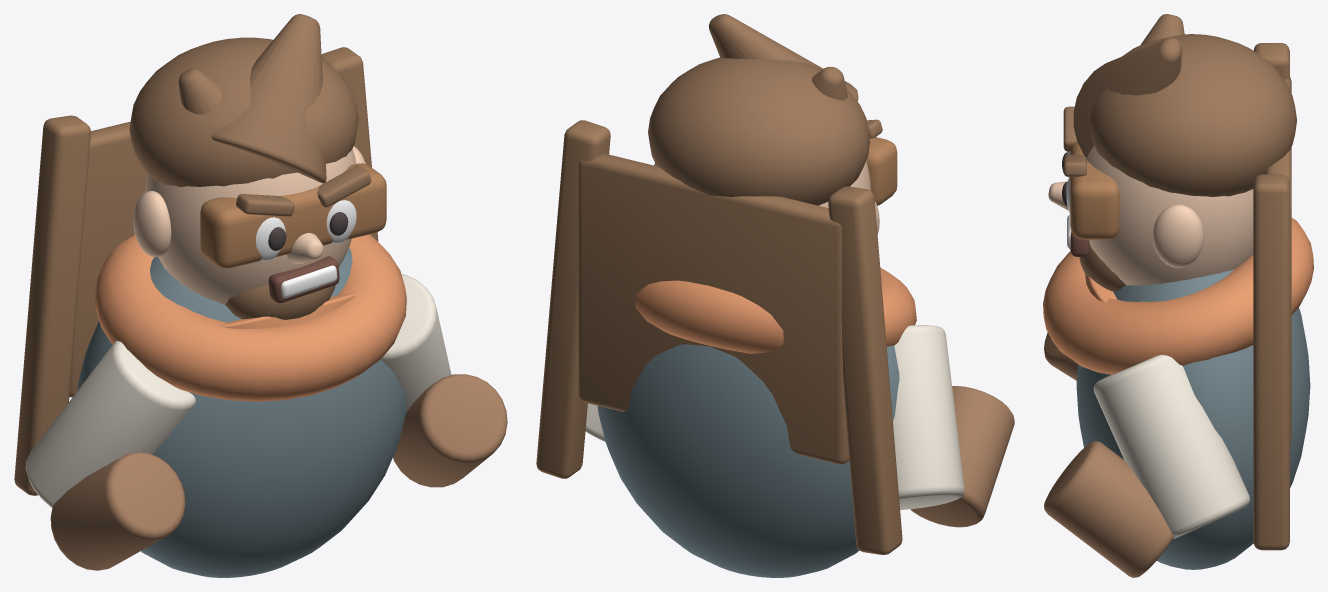
The model's file is opponent_counter.glb.
3 renders of one model, left to right at view 1: azimuth 30°, elevation 25°; view 2: azimuth 150°, elevation 25°; view 3: azimuth 270°, elevation 25°, orthographic. The views are drawn at different scales.
Visible parts, largest first — view 1: Sphere, Torus, Sphere.009, Cube, Cylinder, Cylinder.001, Cone.002, Cylinder.003, Sphere.001, Cube.002, Cube.003, Cylinder.002 (+12 smaller); view 2: Cube.002, Sphere, Sphere.009, Cube, Cube.001, Cylinder, Torus, Cylinder.001, Cone.002, Cube.003, Cone.003; view 3: Sphere.009, Torus, Cylinder.002, Sphere, Cube.001, Sphere.001, Cylinder.003, Cone.002, Cube.003, Sphere.003, Cube.002, Sphere.004 (+7 smaller).
Boxes of the visible parts, x1,y1,x2,y2 form: Sphere: (77, 248, 406, 577); Torus: (95, 234, 406, 401); Sphere.009: (129, 37, 358, 187); Cube: (14, 115, 90, 495); Cylinder: (25, 340, 195, 507); Cylinder.001: (50, 452, 185, 570); Cone.002: (211, 14, 326, 183); Cylinder.003: (393, 374, 507, 487); Sphere.001: (145, 149, 356, 304); Cube.002: (69, 121, 147, 397); Cube.003: (200, 163, 386, 268); Cylinder.002: (381, 274, 451, 411); Cube.002: (578, 153, 849, 464); Sphere: (597, 344, 899, 577); Sphere.009: (648, 57, 870, 205); Cube: (828, 186, 902, 554); Cube.001: (536, 120, 610, 478); Cylinder: (893, 325, 964, 509); Torus: (635, 267, 916, 353); Cylinder.001: (910, 386, 1014, 527); Cone.002: (709, 14, 858, 100); Cube.003: (866, 137, 897, 205); Cone.003: (812, 66, 847, 100); Sphere.009: (1090, 34, 1296, 196); Torus: (1043, 217, 1313, 374); Cylinder.002: (1093, 355, 1249, 538); Sphere: (1076, 269, 1310, 569); Cube.001: (1253, 174, 1289, 550); Sphere.001: (1082, 146, 1253, 285); Cylinder.003: (1044, 441, 1173, 577); Cone.002: (1073, 37, 1181, 157); Cube.003: (1070, 141, 1119, 239); Sphere.003: (1152, 204, 1204, 267); Cube.002: (1265, 77, 1291, 443); Sphere.004: (1079, 246, 1125, 291).
Bounding box in the file's own units: 2.85 × 3.57 × 1.63.
